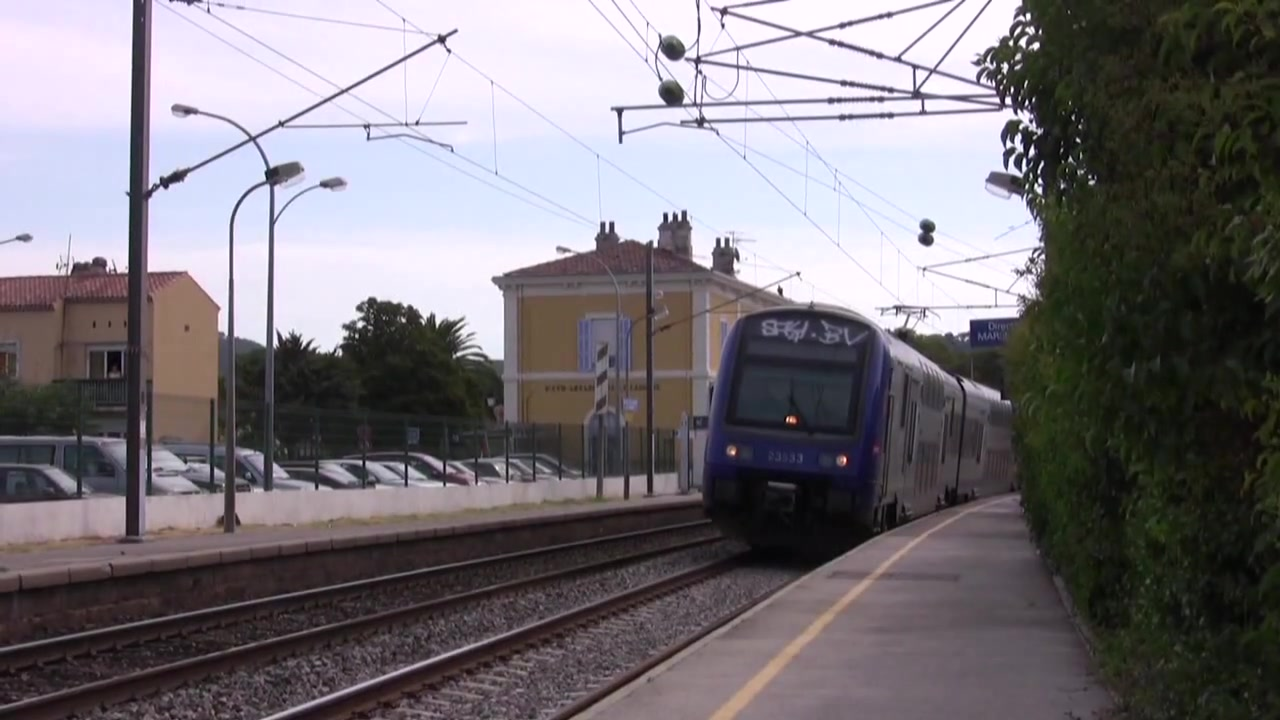train: (703, 300, 1025, 555)
